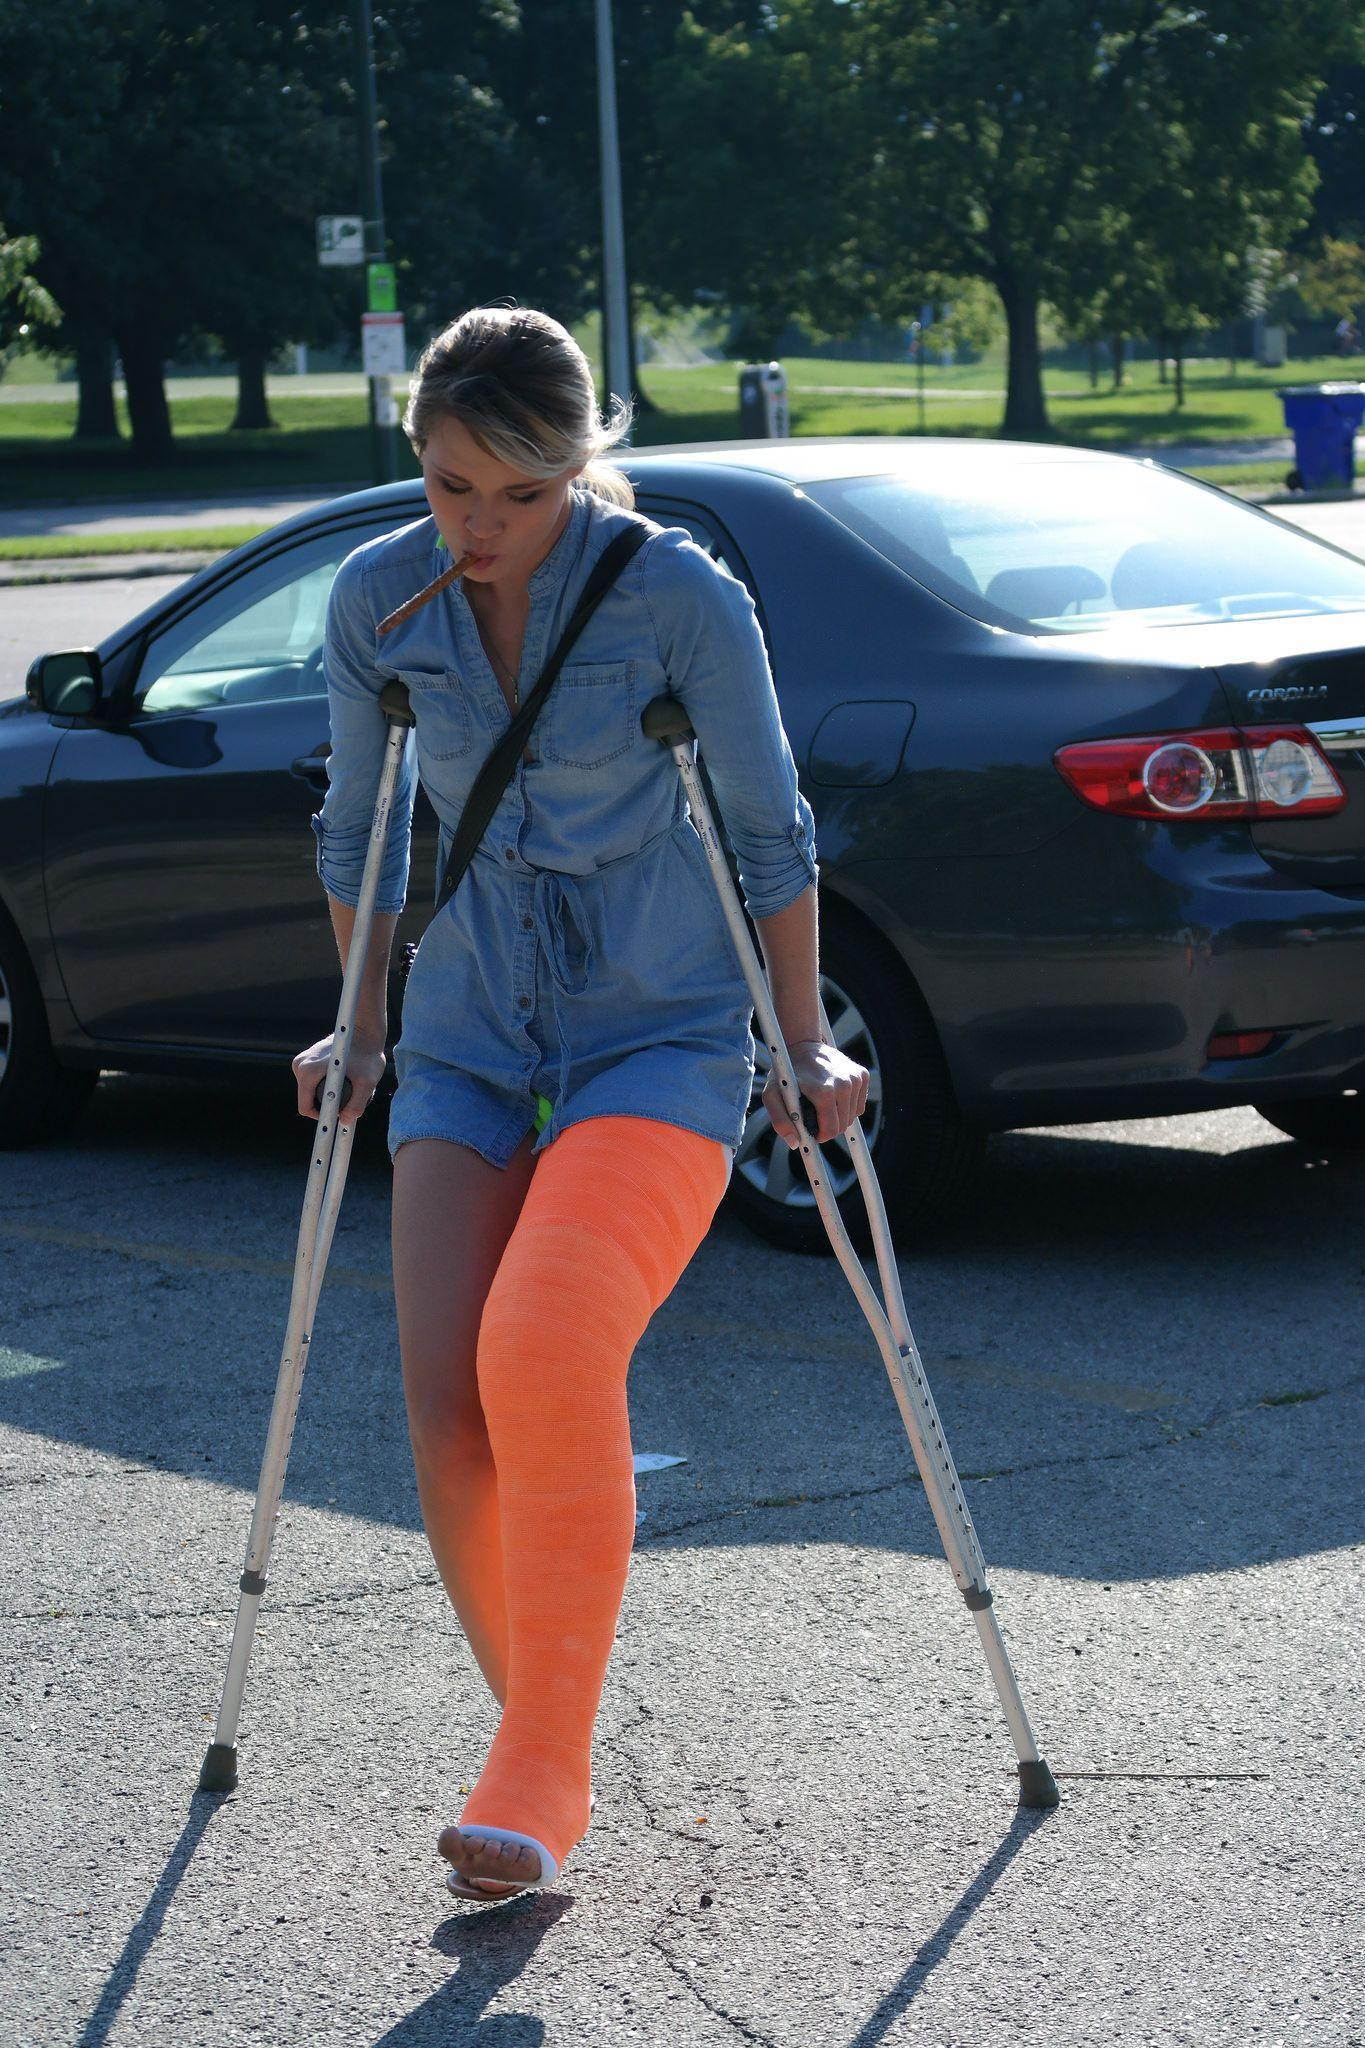crutches: (195, 305, 1060, 1908)
